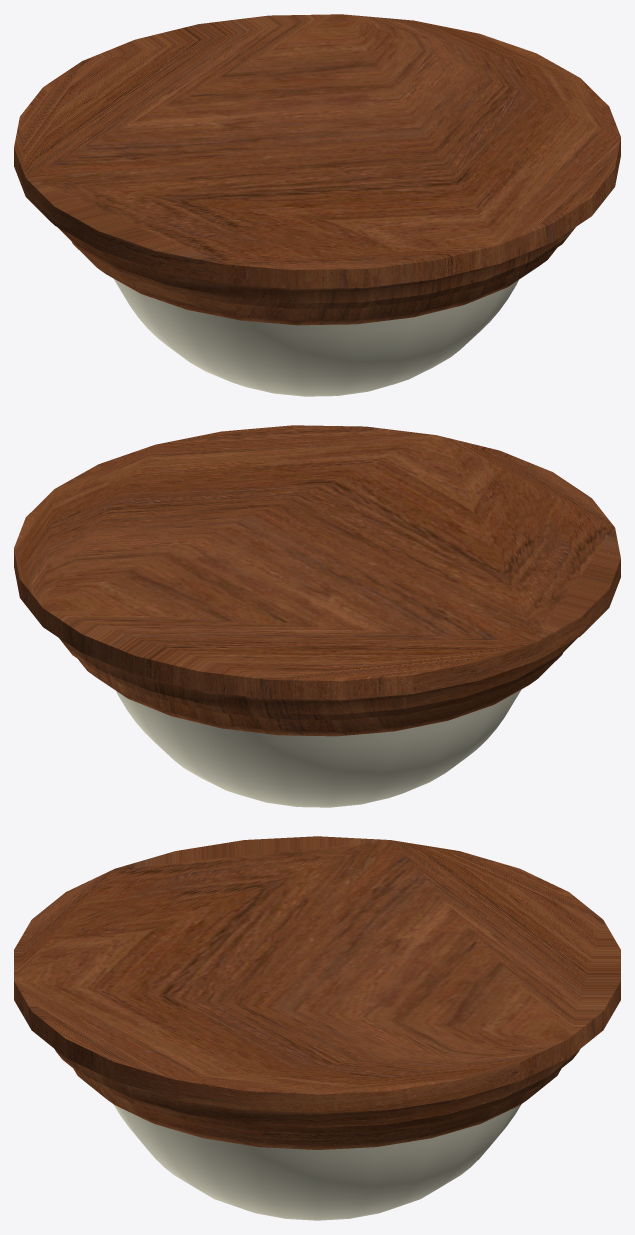
The model's file is Ceiling Lamp 20.FBX.
The picture shows the model from 3 angles, top to bottom: view 1: azimuth 30°, elevation 25°; view 2: azimuth 150°, elevation 25°; view 3: azimuth 270°, elevation 25°; orthographic projection.
Visible parts, largest first — view 1: ceiling lamp 20; view 2: ceiling lamp 20; view 3: ceiling lamp 20.
Boxes of the visible parts, x1,y1,x2,y2 form: ceiling lamp 20: (14, 14, 620, 396); ceiling lamp 20: (14, 425, 620, 807); ceiling lamp 20: (14, 836, 620, 1220).
Bounding box in the file's own units: 33.78 × 14.35 × 33.53.
Materials: 2 (1 with a texture image).
